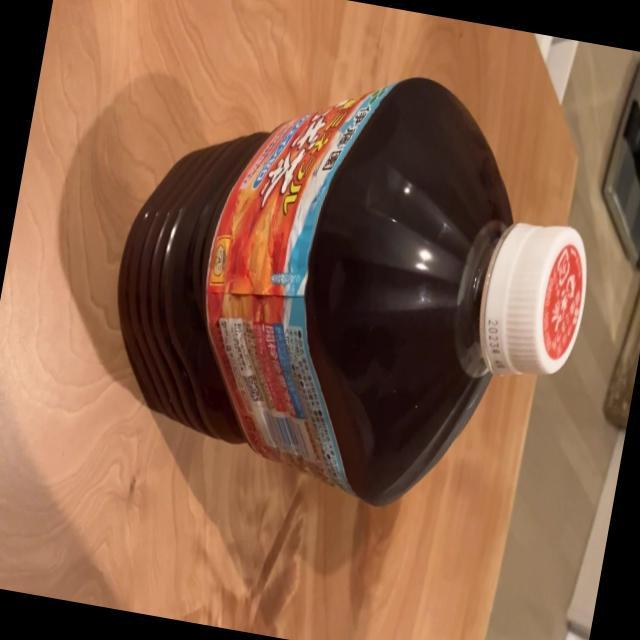good: (84, 26, 620, 531)
